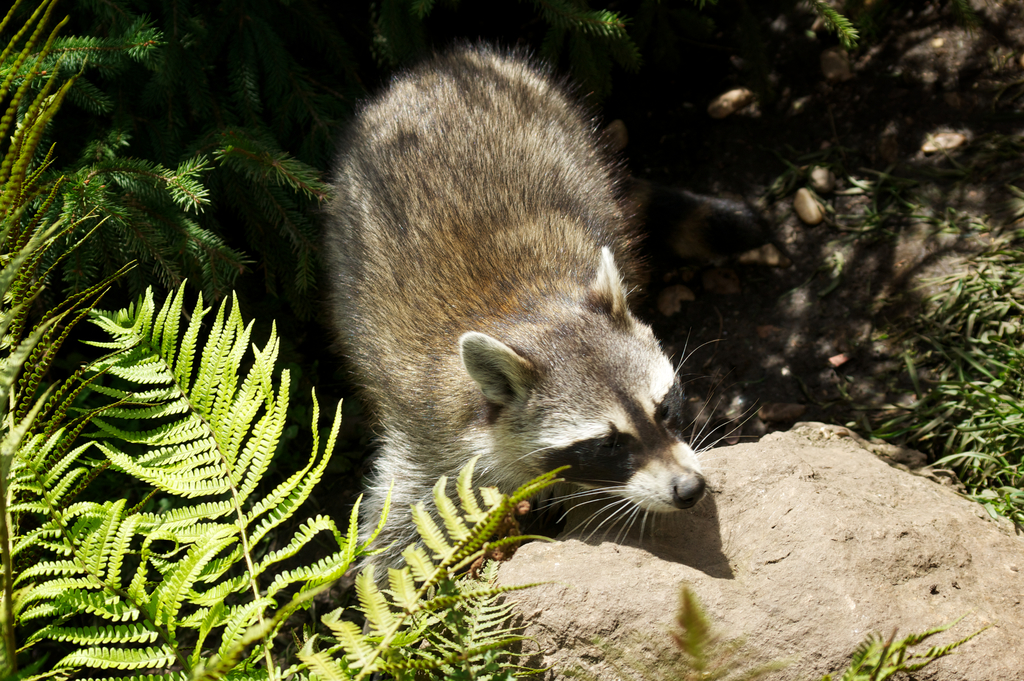raccoon: (318, 39, 712, 579)
